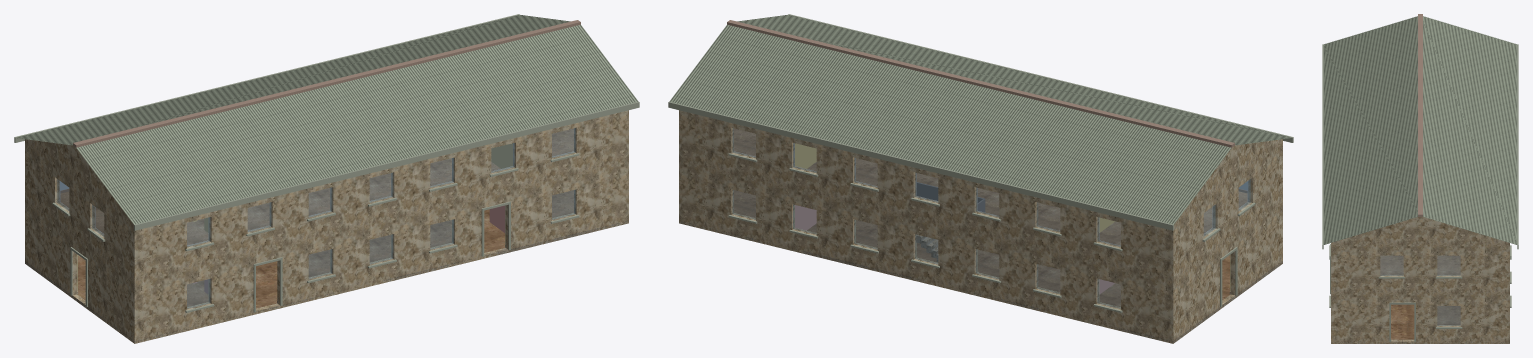
Rendered from barracks-2s.loc-v1.lod0.glb.
3 renders of one model, left to right at view 1: azimuth 30°, elevation 25°; view 2: azimuth 150°, elevation 25°; view 3: azimuth 270°, elevation 25°, orthographic. The views are drawn at different scales.
Parts seen in each view (by area): view 1: barracks-2s; view 2: barracks-2s; view 3: barracks-2s.
Part boxes in pixels (<box>): barracks-2s: <box>14,14,639,343</box>; barracks-2s: <box>668,14,1293,343</box>; barracks-2s: <box>1322,14,1518,343</box>.
Bounding box in the file's own units: 26.54 × 8.09 × 10.98.
Materials: 5 (3 with a texture image).
